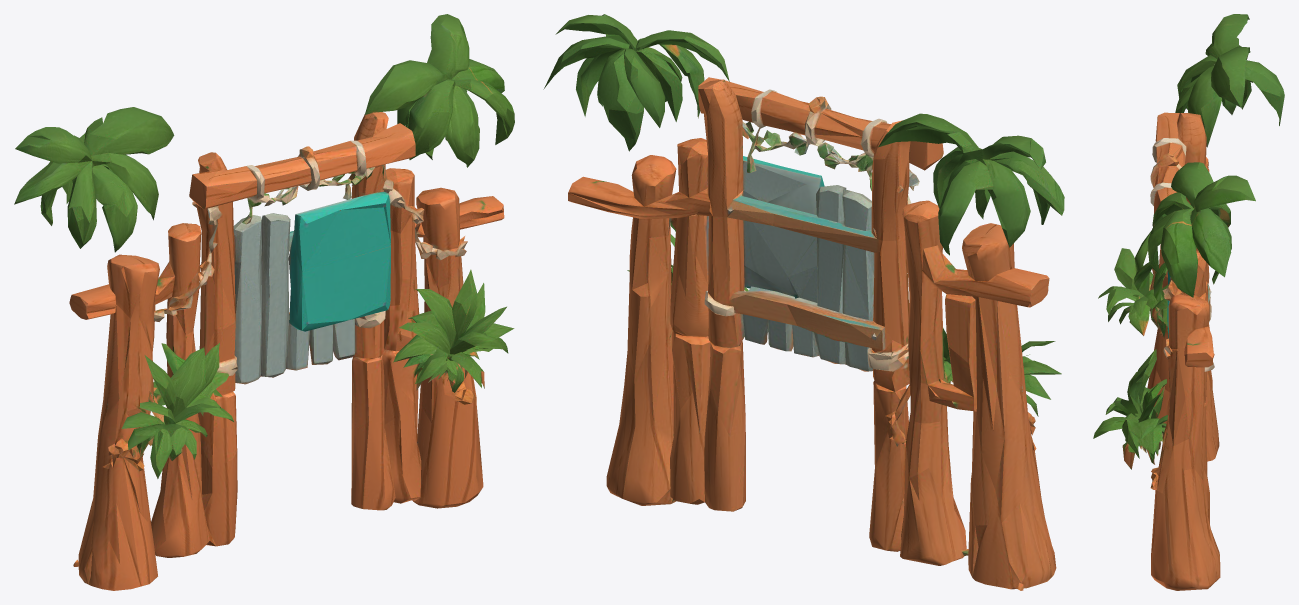
The model's file is jungle-finish-gate.glb.
The picture shows the model from 3 angles, left to right: view 1: azimuth 30°, elevation 25°; view 2: azimuth 150°, elevation 25°; view 3: azimuth 270°, elevation 25°; orthographic projection. The views are drawn at different scales.
Visible parts, largest first — view 1: mesh_node; view 2: mesh_node; view 3: mesh_node.
Boxes of the visible parts, left/top/right/bottom form: mesh_node: left=14, top=14, right=514, bottom=590; mesh_node: left=543, top=14, right=1064, bottom=590; mesh_node: left=1093, top=14, right=1284, bottom=590.
Bounding box in the file's own units: 1.9 × 1.69 × 0.713.
Materials: 1 (1 with a texture image).
